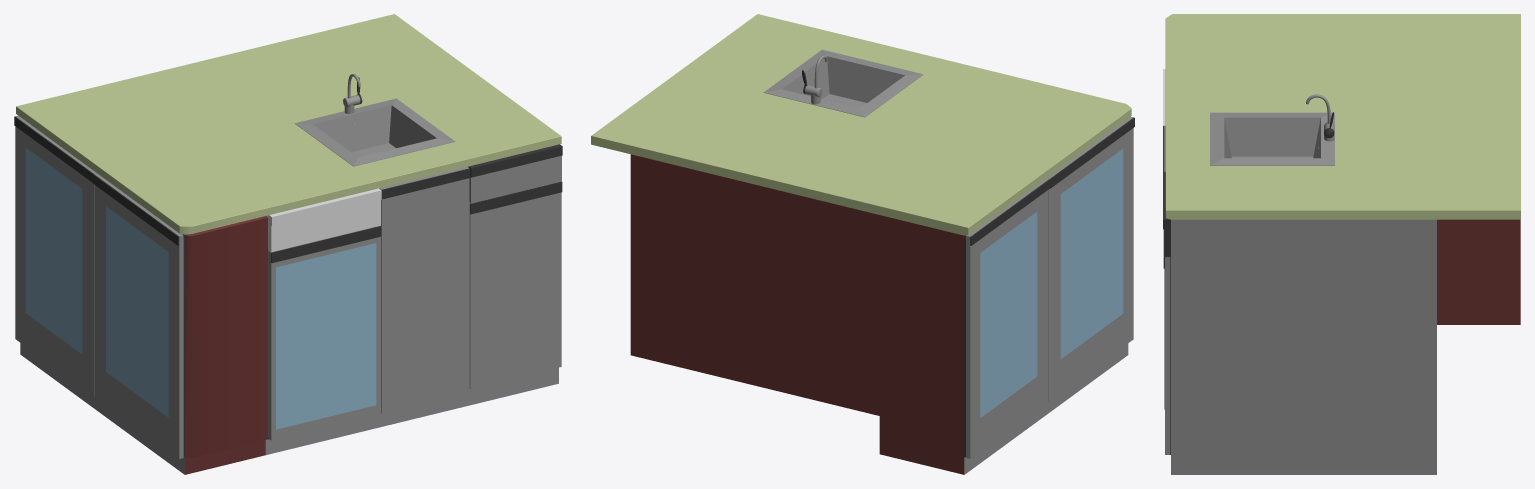
Rendered from Island.FBX.
3 views of the same model, side by side, from view 1: azimuth 30°, elevation 25°; view 2: azimuth 150°, elevation 25°; view 3: azimuth 270°, elevation 25° (orthographic). The views are drawn at different scales.
Visible parts, largest first — view 1: Island, Kitchen_Island_door3, Kitchen_Island_door1, Kitchen_Island_door4, Kitchen_Island_door2, Kitchen_Island_door5, Kitchen_sink, Control_unit1, Control_unit2; view 2: Island, Kitchen_Island_door1, Kitchen_Island_door2, Kitchen_sink; view 3: Island, Kitchen_sink, Kitchen_Island_door5, Control_unit2, Mixer.
Part boxes in pixels (box(x1,y1,x2,y2)): Island: box(16, 14, 561, 474); Kitchen_Island_door3: box(268, 225, 381, 440); Kitchen_Island_door1: box(93, 173, 183, 458); Kitchen_Island_door4: box(379, 167, 470, 413); Kitchen_Island_door2: box(14, 115, 96, 396); Kitchen_Island_door5: box(469, 181, 562, 388); Kitchen_sink: box(295, 98, 455, 166); Control_unit1: box(268, 188, 381, 251); Control_unit2: box(468, 144, 562, 203); Island: box(591, 14, 1131, 474); Kitchen_Island_door1: box(1046, 116, 1134, 400); Kitchen_Island_door2: box(965, 179, 1049, 458); Kitchen_sink: box(763, 49, 923, 117); Island: box(1165, 14, 1520, 474); Kitchen_sink: box(1210, 112, 1334, 165); Kitchen_Island_door5: box(1163, 229, 1170, 454); Control_unit2: box(1163, 172, 1170, 257); Mixer: box(1306, 94, 1334, 141).
Size of the model in its own units: 70.56 by 51.65 by 54.01.
